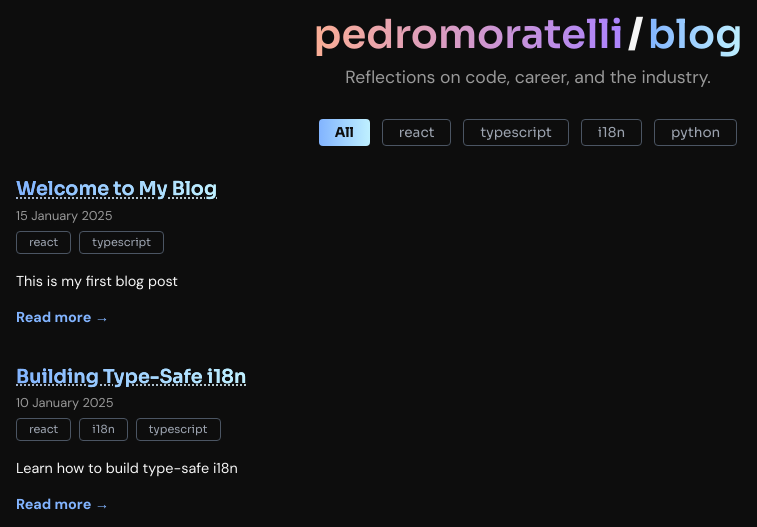
Test: BlogList › should display empty state when no posts match filter
// Click on tag that no posts have
Click the button "python".
click(696, 133)  # box left=654, top=119, right=737, bottom=146
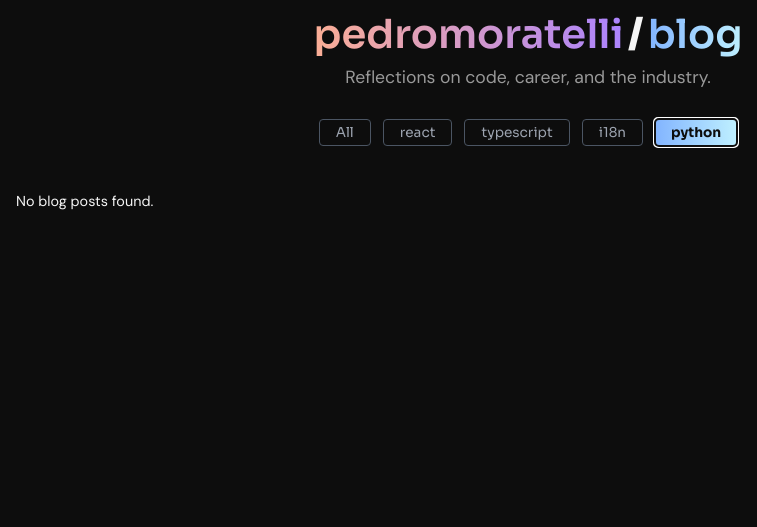
Now the text "No blog posts found." is shown, box left=16, top=192, right=153, bottom=210
Now the link "Welcome to My Blog" is gone
